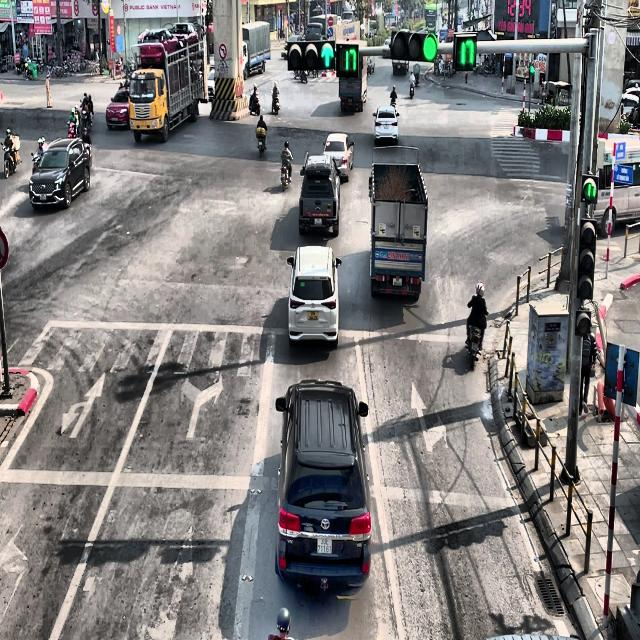lisence_plate: (315, 534, 333, 556), (306, 310, 318, 322), (393, 275, 404, 288), (314, 218, 322, 226), (382, 123, 390, 131), (347, 98, 353, 104), (398, 64, 403, 70)
